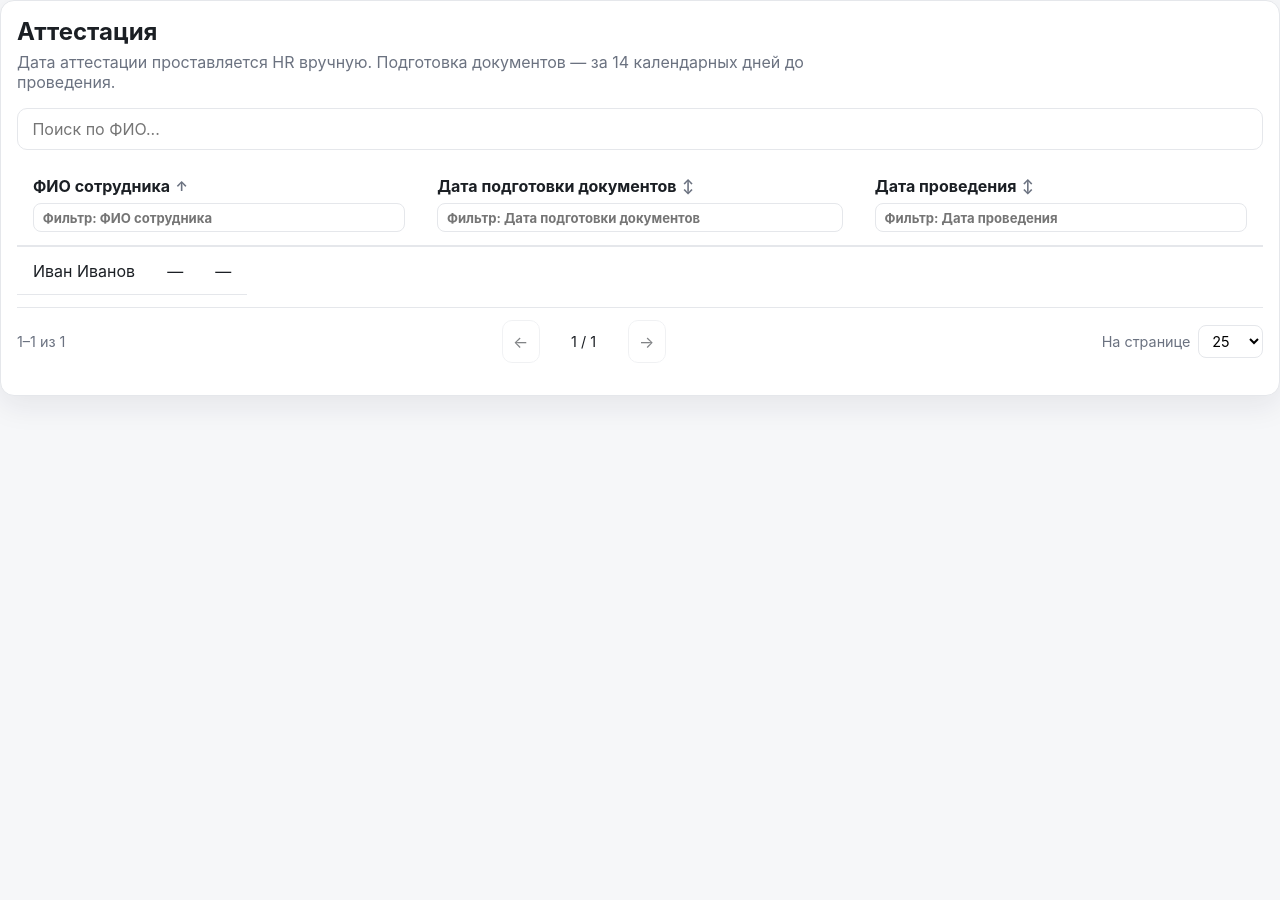
Test case: AttestationsView › shows empty dates and does not offer an event without a scheduled attestation
The image size is (1280, 900).
Click the row with class "data-table-row" at (132, 271), box x1=17 y1=247 x2=247 y2=295
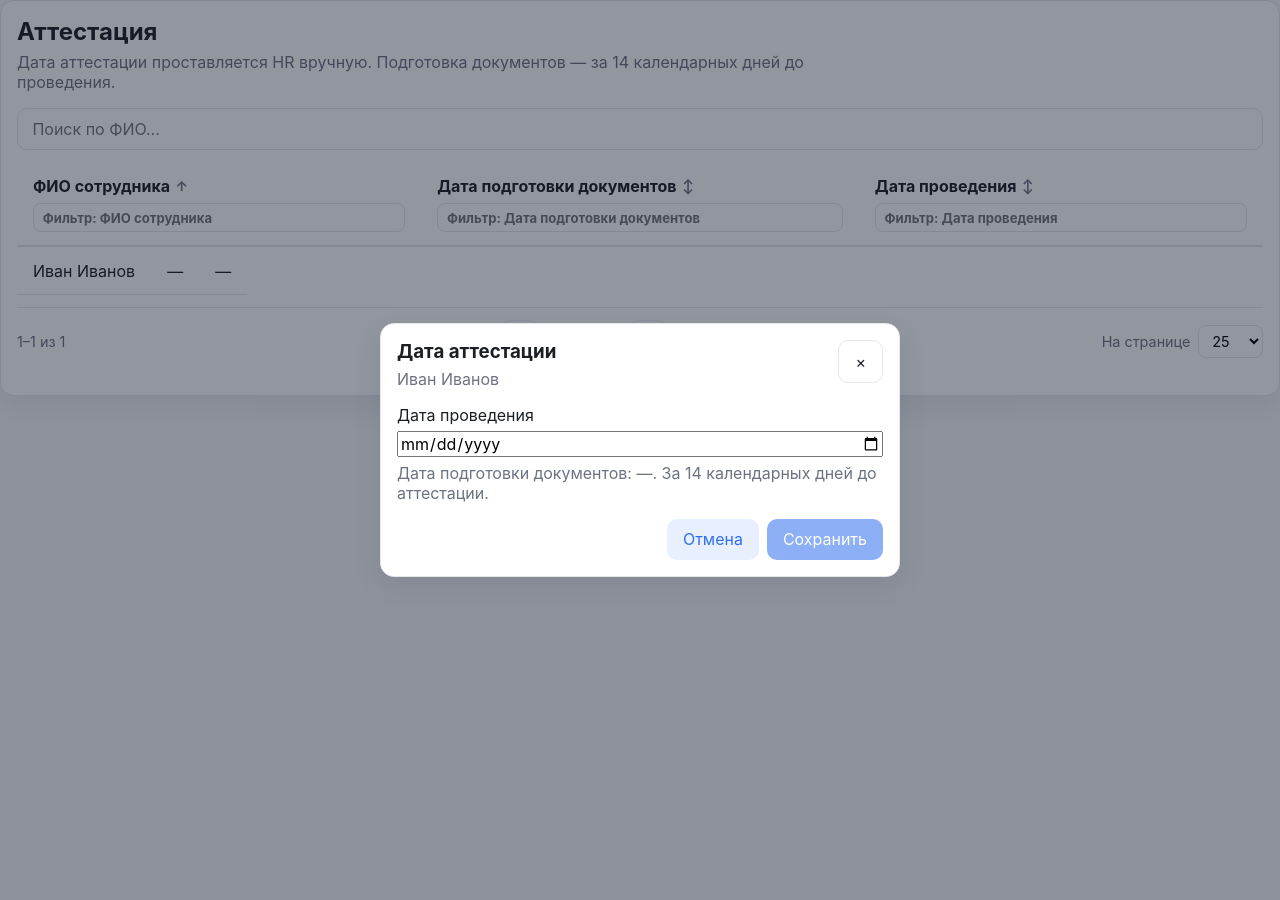
Expected: the text "Дата подготовки документов: —" is shown, x1=397 y1=463 x2=877 y2=503
